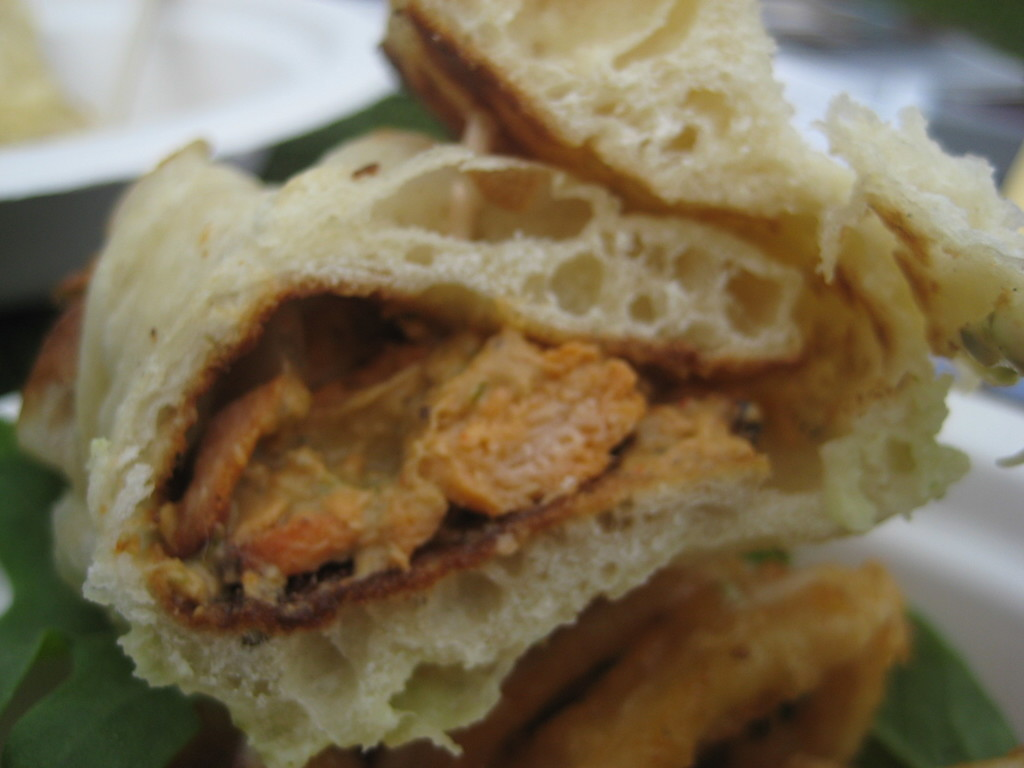sandwich: (17, 0, 1023, 767)
